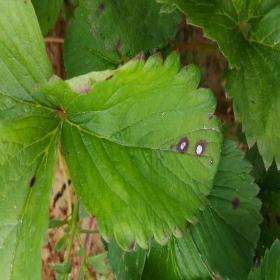Leaf Spot: (59, 49, 224, 253), (0, 105, 66, 279), (187, 140, 265, 279), (219, 3, 279, 173), (86, 0, 184, 58), (247, 237, 279, 279), (32, 0, 65, 37)
